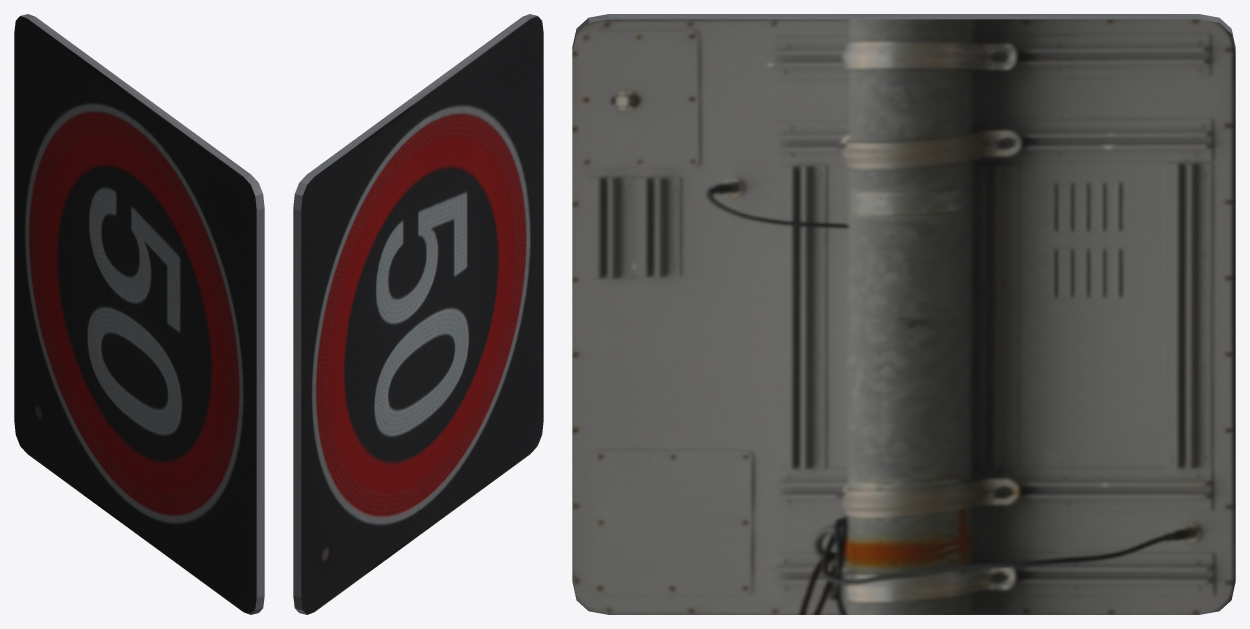
File: RTA0201220727_0044L_02_normalization.obj
3 renders of one model, left to right at view 1: azimuth 30°, elevation 25°; view 2: azimuth 150°, elevation 25°; view 3: azimuth 270°, elevation 25°, orthographic. The views are drawn at different scales.
Parts seen in each view (by area): view 1: RTA0201220727_0044S_02; view 2: RTA0201220727_0044S_02; view 3: RTA0201220727_0044S_02.
Boxes of the visible parts, x1,y1,x2,y2 form: RTA0201220727_0044S_02: (14,14,264,614); RTA0201220727_0044S_02: (293,14,543,614); RTA0201220727_0044S_02: (572,14,1235,614).
Bounding box in the file's own units: 0.0135 × 0.7039 × 0.7102.
1 material, 1 textured.
